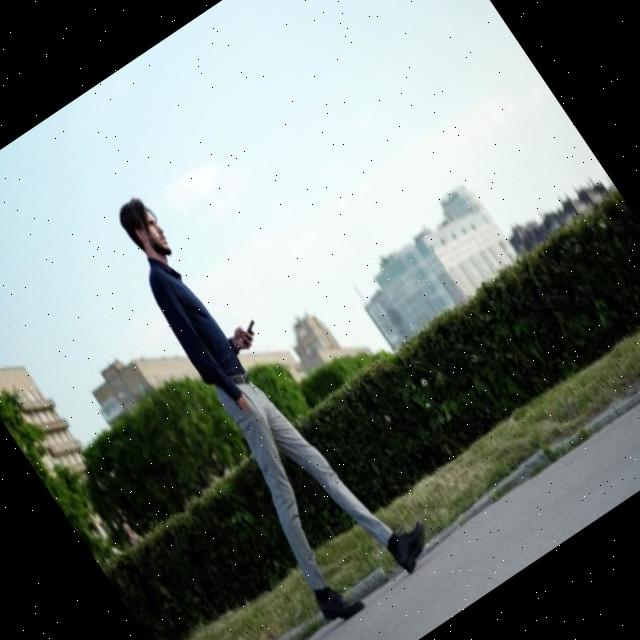Person: (70, 166, 443, 630)
